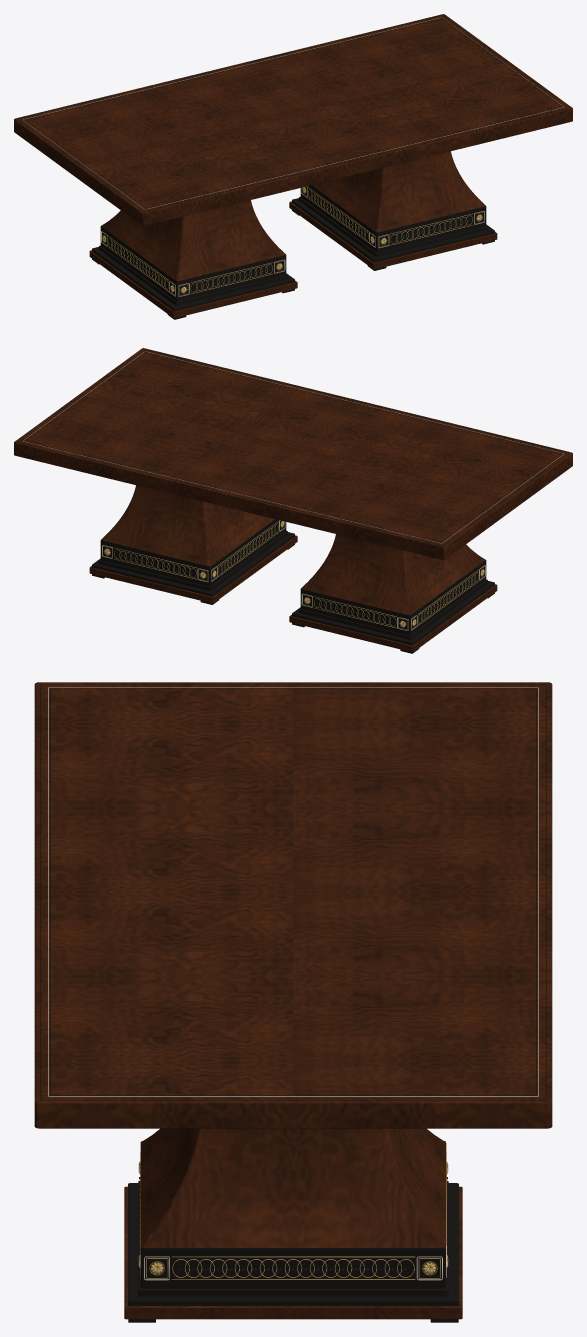
3 renders of one model, top to bottom at view 1: azimuth 30°, elevation 25°; view 2: azimuth 150°, elevation 25°; view 3: azimuth 270°, elevation 25°, orthographic. The views are drawn at different scales.
Parts seen in each view (by area): view 1: Nantes twin-pedestal dining table | dining-9 web batch; view 2: Nantes twin-pedestal dining table | dining-9 web batch; view 3: Nantes twin-pedestal dining table | dining-9 web batch.
Boxes of the visible parts, <box> form: Nantes twin-pedestal dining table | dining-9 web batch: <box>14,14,572,319</box>; Nantes twin-pedestal dining table | dining-9 web batch: <box>14,348,572,653</box>; Nantes twin-pedestal dining table | dining-9 web batch: <box>34,682,552,1322</box>.
Size of the model in its own units: 2.5 by 0.7611 by 1.3.
Materials: 6 (1 with a texture image).
